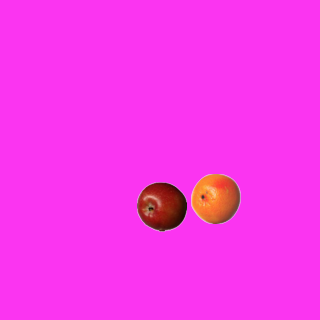Apple Braeburn: (136, 181, 186, 231)
Grapefruit Pink: (190, 173, 240, 223)
